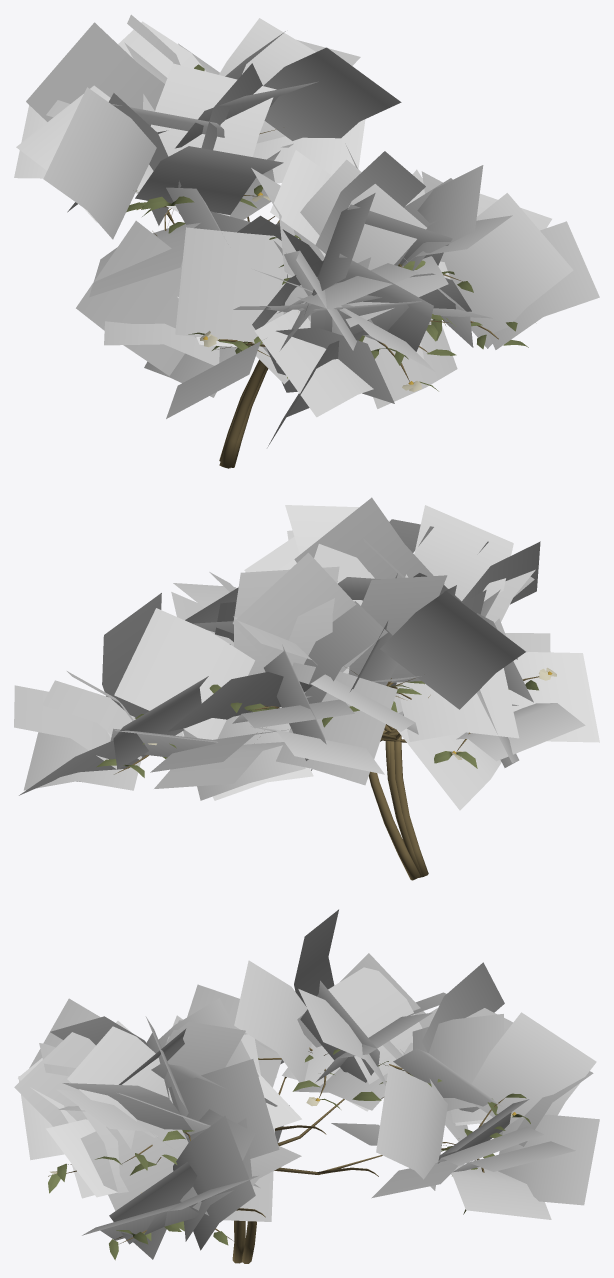
The model's file is Ciste_Incline_LOD1.fbx.
3 renders of one model, top to bottom at view 1: azimuth 30°, elevation 25°; view 2: azimuth 150°, elevation 25°; view 3: azimuth 270°, elevation 25°, orthographic. The views are drawn at different scales.
Visible parts, largest first — view 1: Ciste_Incline_LOD1; view 2: Ciste_Incline_LOD1; view 3: Ciste_Incline_LOD1.
Part boxes in pixels (x1,y1,x2,y2): Ciste_Incline_LOD1: (14, 14, 599, 468); Ciste_Incline_LOD1: (14, 497, 599, 880); Ciste_Incline_LOD1: (14, 909, 599, 1263).
Bounding box in the file's own units: 135 × 104 × 174.
